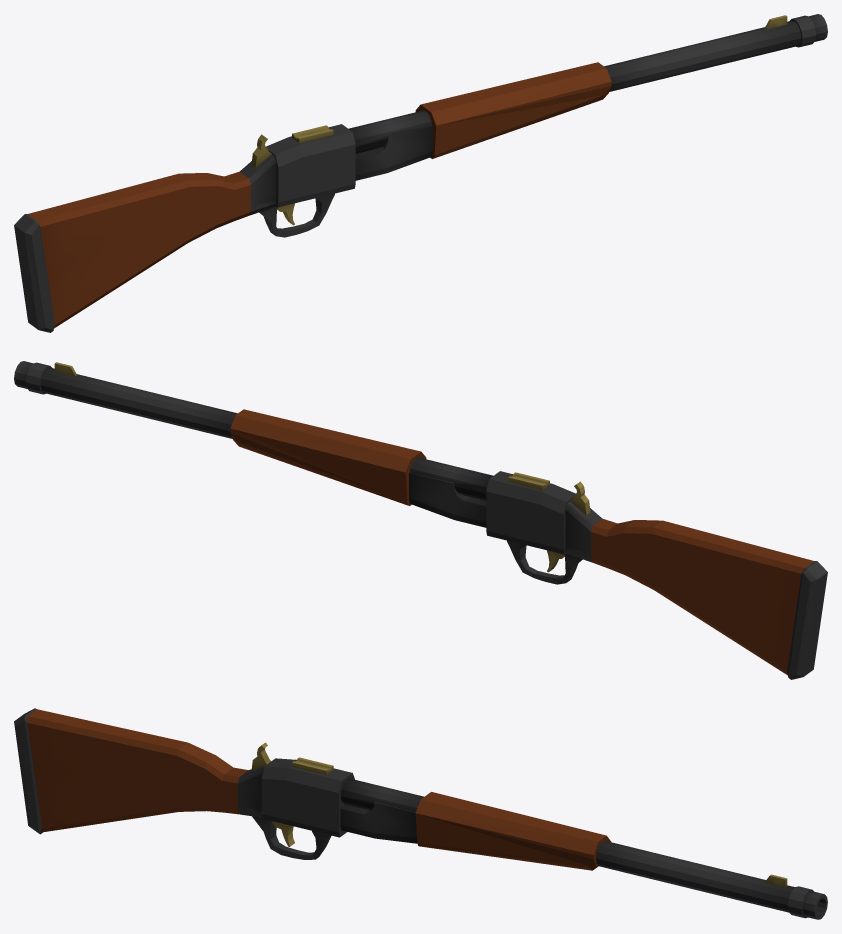
File: v-carabine-shotgun-long.glb
3 renders of one model, top to bottom at view 1: azimuth 30°, elevation 25°; view 2: azimuth 150°, elevation 25°; view 3: azimuth 330°, elevation 25°, orthographic.
Parts seen in each view (by area): view 1: stock (×2), receiver (×3), front (×2), grip; view 2: stock (×2), receiver (×3), front (×2), grip; view 3: stock (×2), receiver (×3), front (×2), grip.
Boxes of the visible parts, <box> form: stock (×2): <box>14,173,235,332</box>; receiver (×3): <box>224,85,514,221</box>; front (×2): <box>500,14,827,131</box>; grip: <box>249,185,344,237</box>; stock (×2): <box>606,520,827,679</box>; receiver (×3): <box>327,432,617,568</box>; front (×2): <box>14,361,341,478</box>; grip: <box>497,532,592,584</box>; stock (×2): <box>14,708,232,834</box>; receiver (×3): <box>222,742,509,857</box>; front (×2): <box>495,811,827,919</box>; grip: <box>238,805,331,859</box>.
Size of the model in its own units: 1.1 by 0.1837 by 0.0493.
